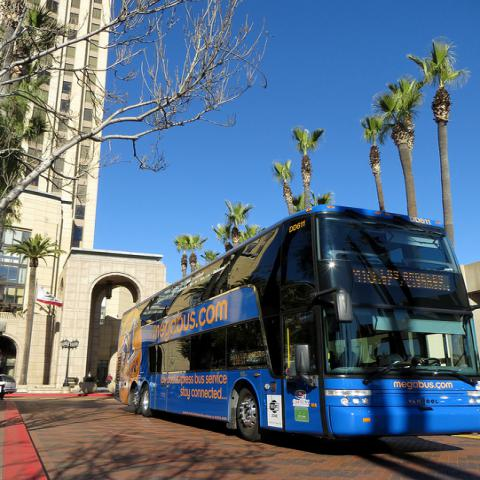bus: (115, 204, 479, 440)
car: (0, 372, 18, 394)
